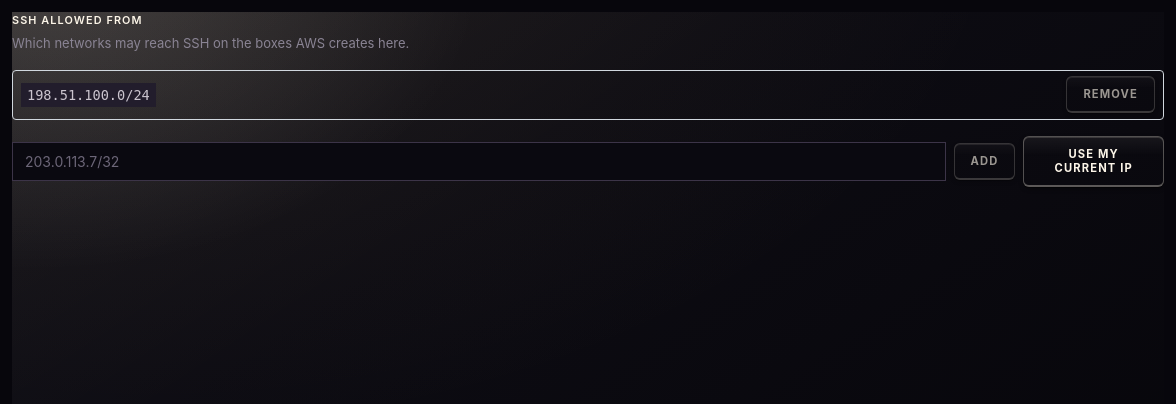
Test case: "Use my current IP" on the SSH allow-list › fills the Add box with a /32 of the address core reports
The width and height of the screenshot is (1176, 404).
What coordinates should you click on to do the following:
click the button with test id "use-my-ip-aws"
I would click on:
 (1094, 162)
Its box is [1023,136,1164,187].
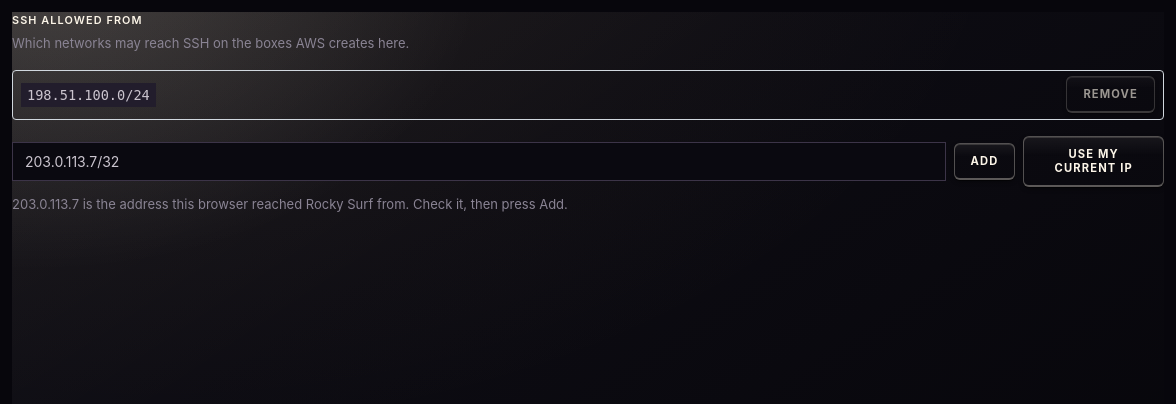
Expected: the number of list items is 1, [12,70,1164,120]
Result: the field named "Add a network for aws" holds "203.0.113.7/32" at [12,142,946,181]
